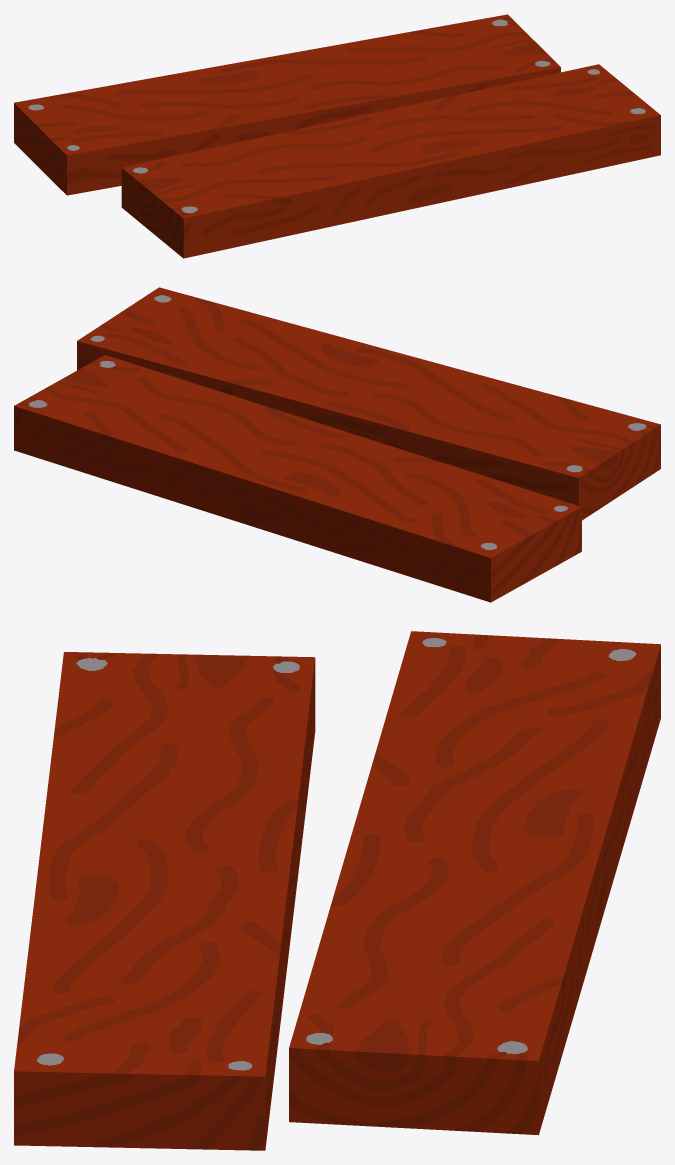
Rendered from woodWorkshopMaterial1.fbx.
3 renders of one model, top to bottom at view 1: azimuth 30°, elevation 25°; view 2: azimuth 150°, elevation 25°; view 3: azimuth 270°, elevation 25°, orthographic. The views are drawn at different scales.
Visible parts, largest first — view 1: WoodDesk.001; view 2: WoodDesk.001; view 3: WoodDesk.001.
Boxes of the visible parts, box(x1,y1,x2,y2) form: WoodDesk.001: box(14, 14, 660, 258); WoodDesk.001: box(14, 287, 660, 602); WoodDesk.001: box(14, 631, 660, 1150).
Size of the model in its own units: 70.29 by 5.45 by 43.14.
Materials: 1 (1 with a texture image).
